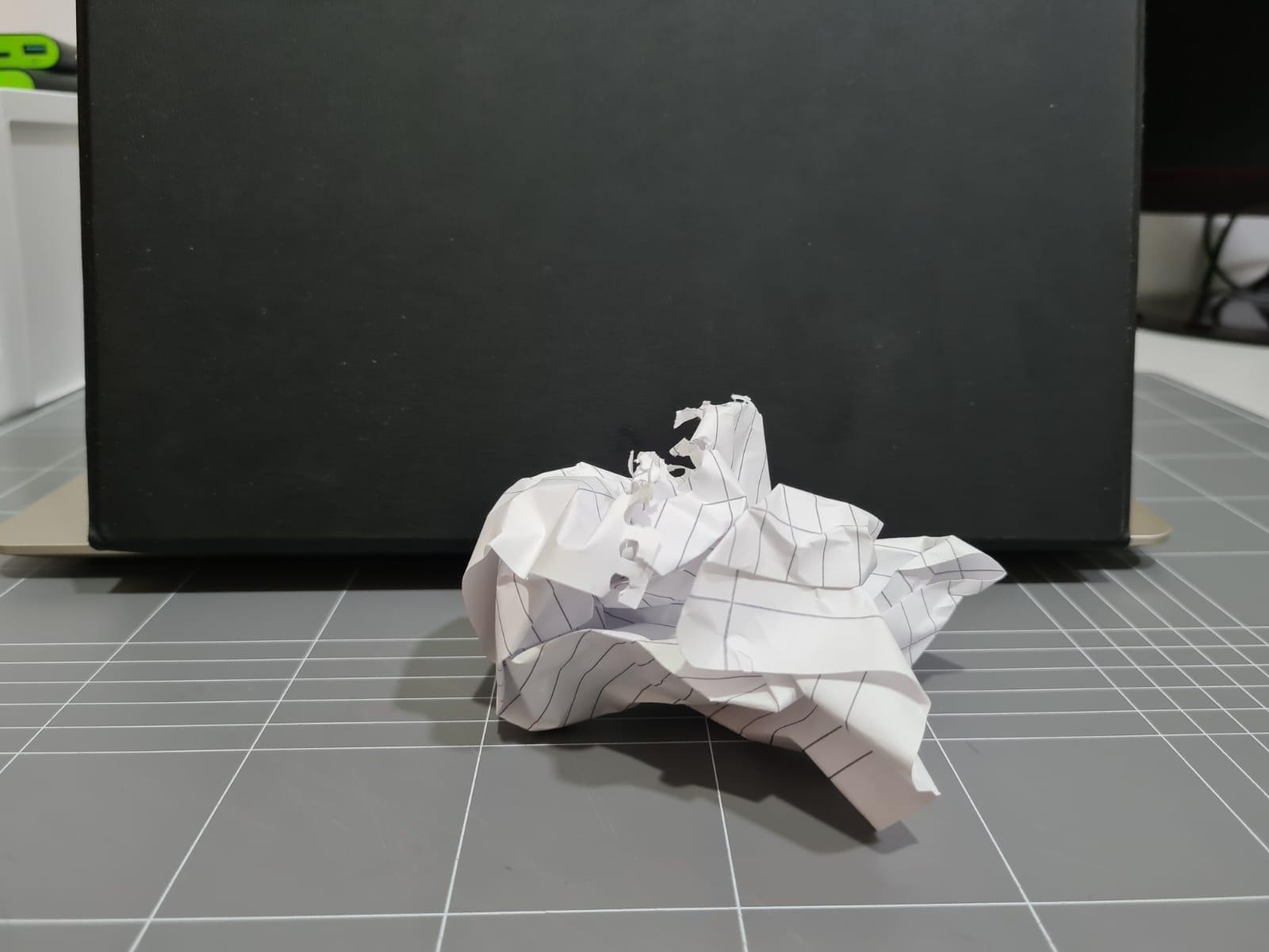paper: (454, 403, 1025, 808)
